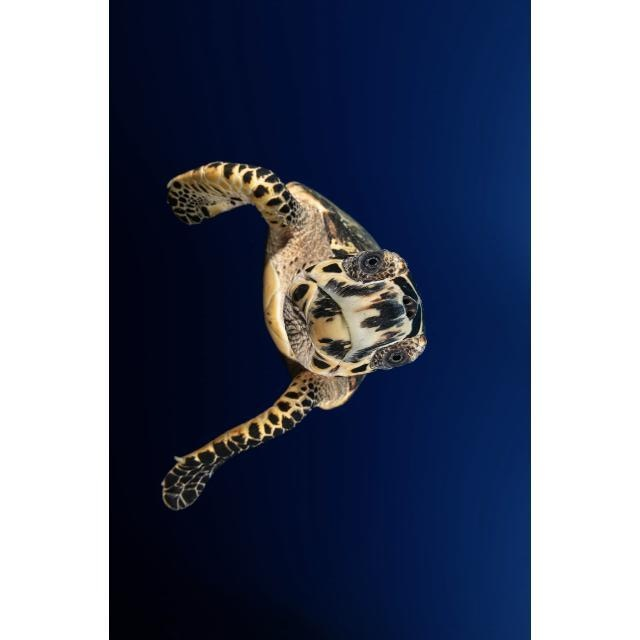turtle: (159, 162, 426, 509)
